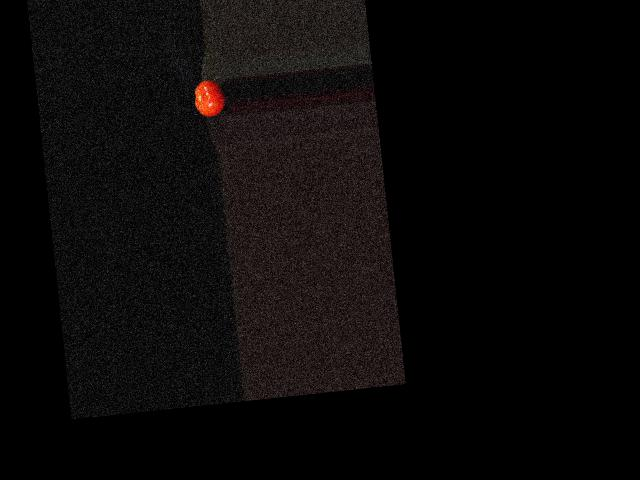tomato: (193, 79, 226, 118)
